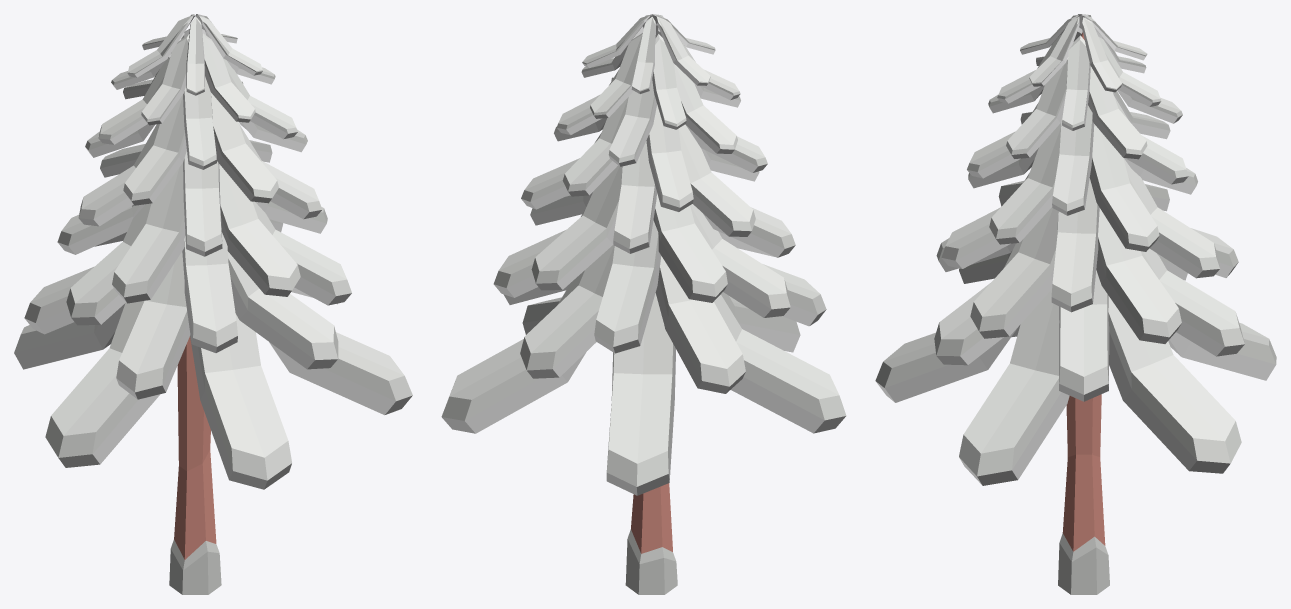
Rendered from Drzewo_iglaste_snieg.fbx.
3 renders of one model, left to right at view 1: azimuth 30°, elevation 25°; view 2: azimuth 150°, elevation 25°; view 3: azimuth 270°, elevation 25°, orthographic.
Parts seen in each view (by area): view 1: Drzewo_iglaste_snieg_LOD0; view 2: Drzewo_iglaste_snieg_LOD0; view 3: Drzewo_iglaste_snieg_LOD0.
Boxes of the visible parts, x1,y1,x2,y2 form: Drzewo_iglaste_snieg_LOD0: (14, 14, 412, 594); Drzewo_iglaste_snieg_LOD0: (441, 14, 846, 594); Drzewo_iglaste_snieg_LOD0: (875, 14, 1276, 594).
Size of what is drawn, in the model's own units: 497 by 817 by 522.
